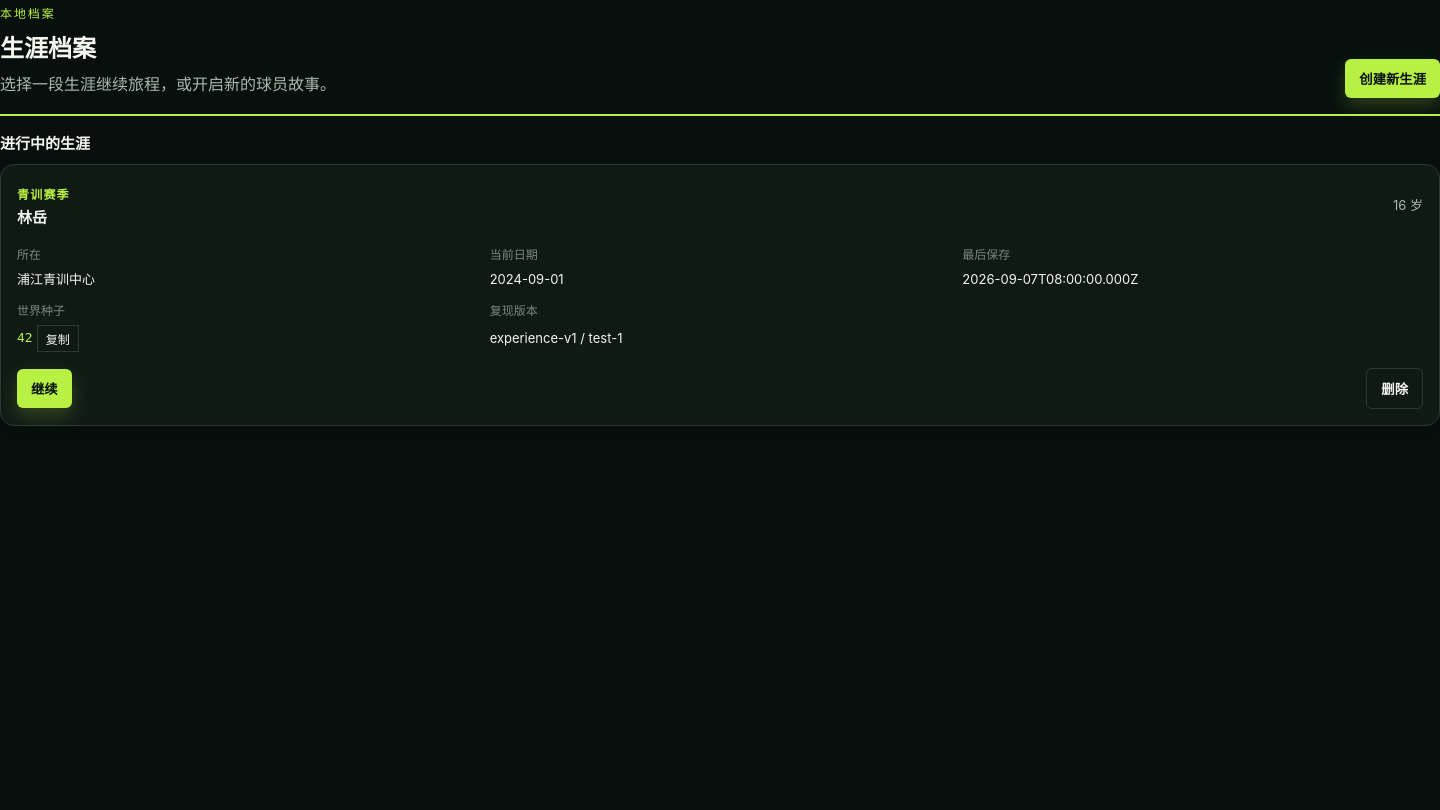
CareerSaveSelector › closes the delete confirmation without a mutation when cancelled
Click the button with aria-label "删除林岳的生涯".
click(1395, 389)  # box x1=1366 y1=368 x2=1423 y2=409
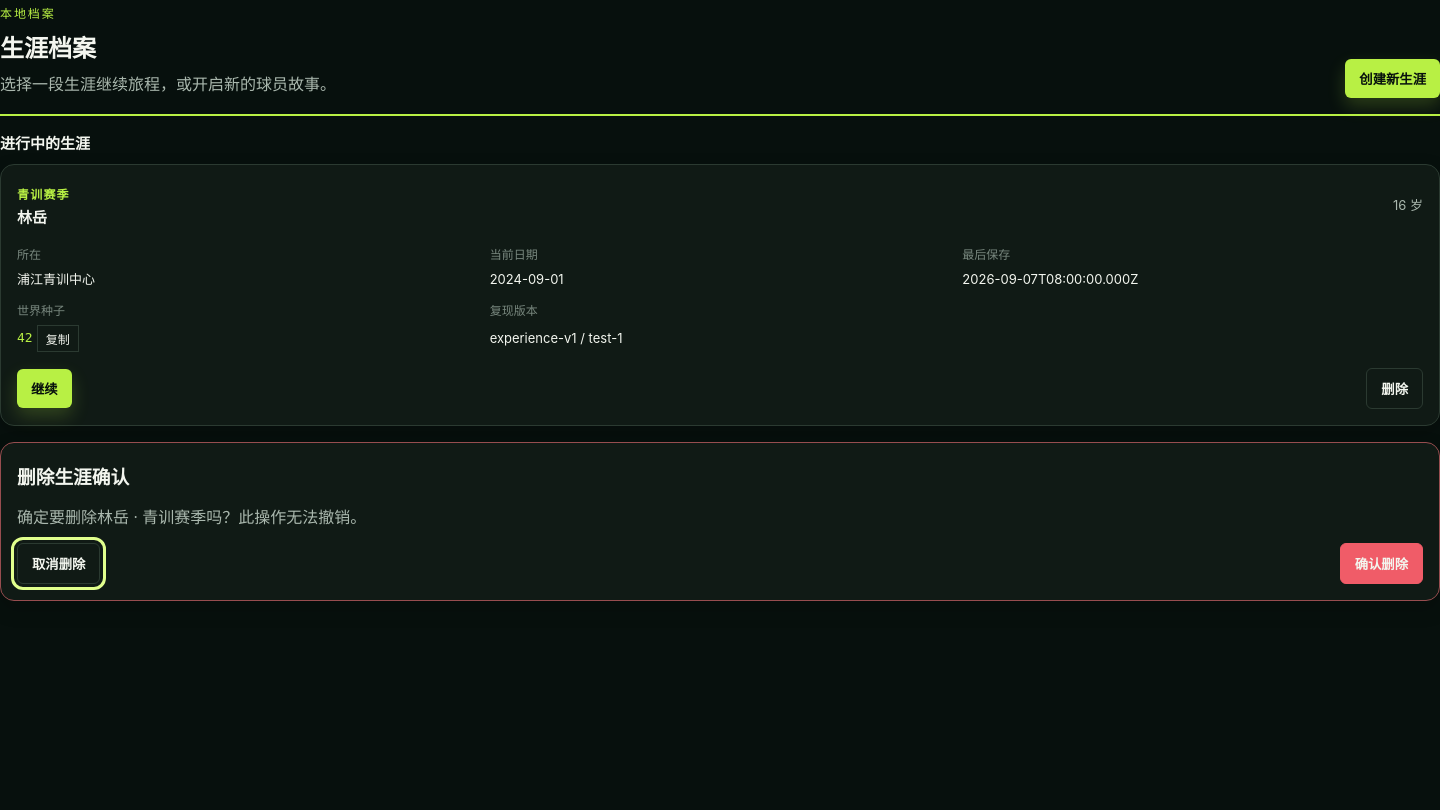
Click the button "取消删除".
click(59, 563)  # box x1=17 y1=543 x2=100 y2=584
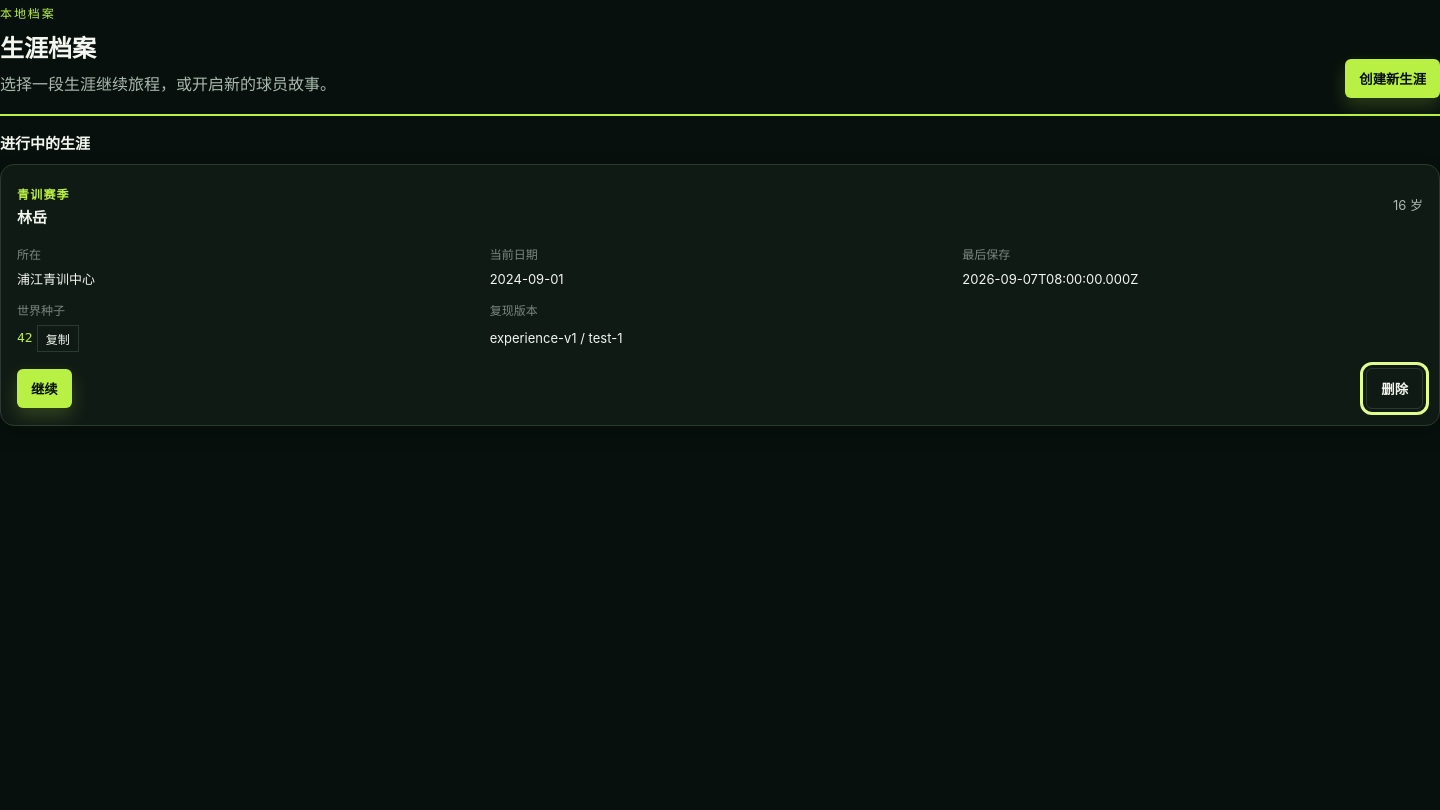
Check: the heading "删除生涯确认" is gone
